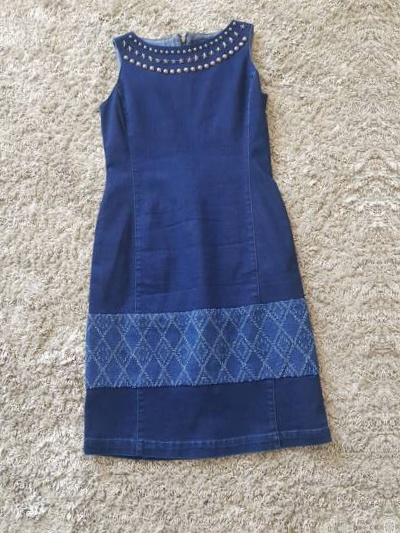Dress: (47, 1, 344, 465)
